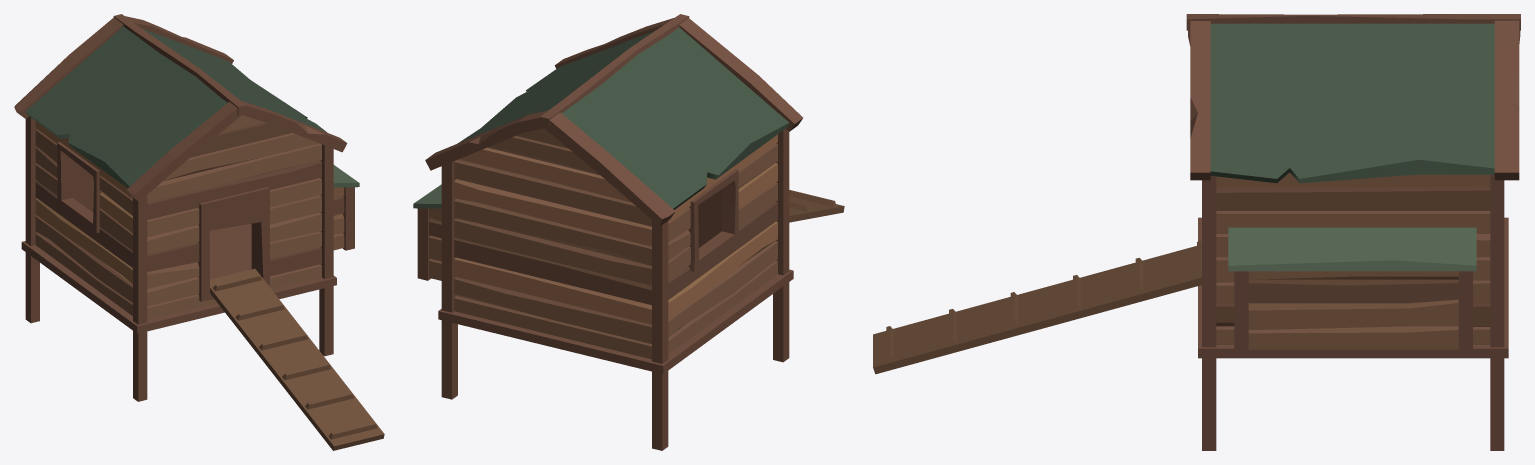
Rendered from chicken-coop.glb.
3 renders of one model, left to right at view 1: azimuth 30°, elevation 25°; view 2: azimuth 150°, elevation 25°; view 3: azimuth 270°, elevation 25°, orthographic. The views are drawn at different scales.
Visible parts, largest first — view 1: SM_Prop_Chicken_Coop_01; view 2: SM_Prop_Chicken_Coop_01; view 3: SM_Prop_Chicken_Coop_01.
Part boxes in pixels (x1,y1,x2,y2): SM_Prop_Chicken_Coop_01: [14, 14, 384, 450]; SM_Prop_Chicken_Coop_01: [413, 14, 844, 450]; SM_Prop_Chicken_Coop_01: [873, 14, 1520, 450].
Size of the model in its own units: 2.23 by 2.48 by 3.9.
1 material, 1 textured.
